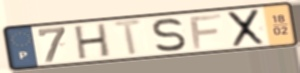7: (36, 26, 68, 64)
F: (188, 12, 225, 51)
H: (73, 21, 112, 61)
S: (151, 17, 188, 53)
T: (111, 18, 147, 58)
X: (226, 7, 267, 49)
